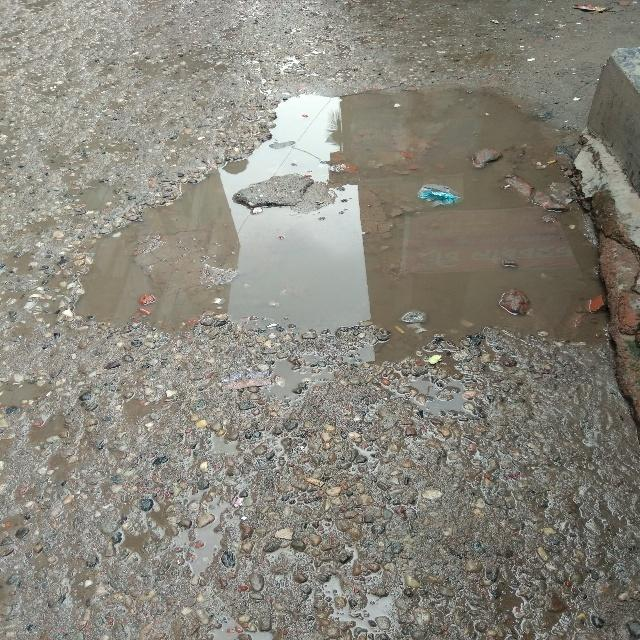Surface Erosion: (71, 21, 640, 447)
